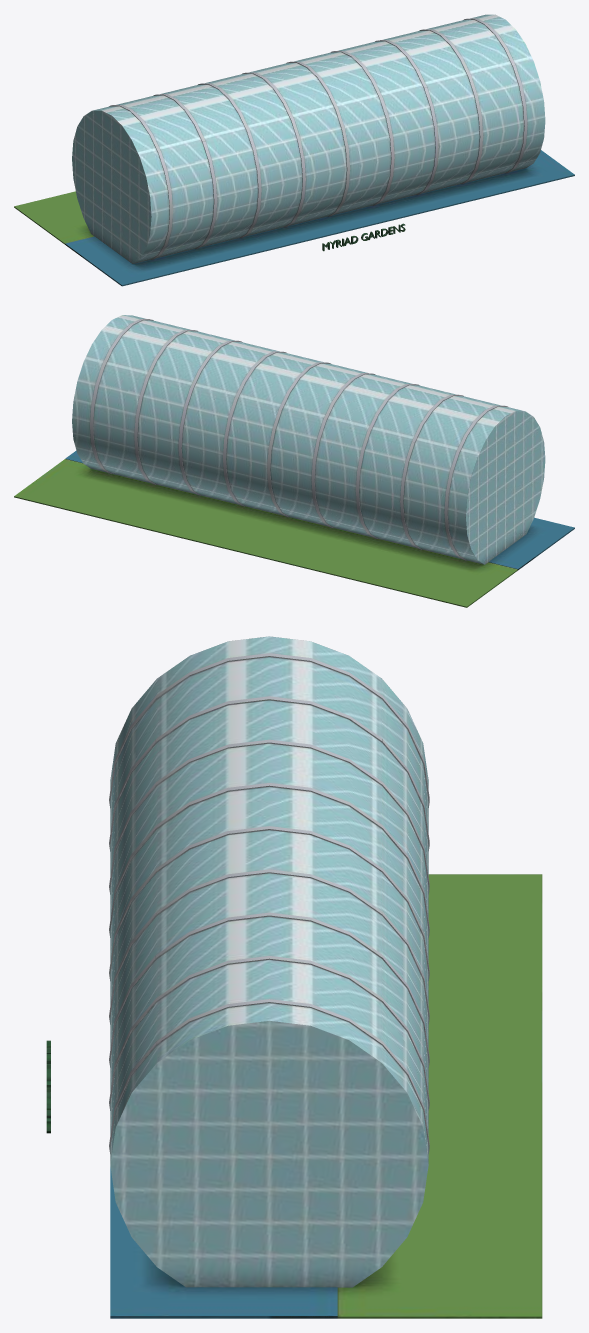
Rendered from cristal_bridge.glb.
3 renders of one model, top to bottom at view 1: azimuth 30°, elevation 25°; view 2: azimuth 150°, elevation 25°; view 3: azimuth 270°, elevation 25°, orthographic. The views are drawn at different scales.
Visible parts, largest first — view 1: cristal_bridge; view 2: cristal_bridge; view 3: cristal_bridge.
Boxes of the visible parts, x1,y1,x2,y2 form: cristal_bridge: (14, 14, 574, 286); cristal_bridge: (14, 315, 574, 607); cristal_bridge: (46, 636, 542, 1318).
Bounding box in the file's own units: 46 × 14.1 × 21.8.
Materials: 1 (1 with a texture image).
